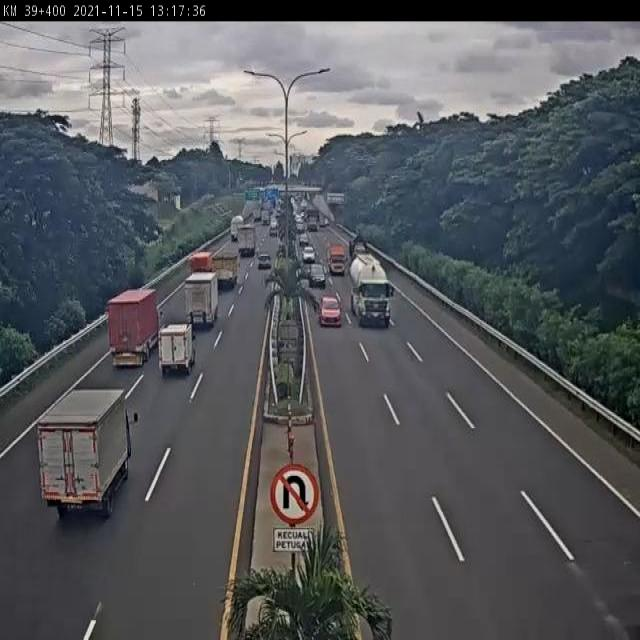Car: (320, 293, 341, 331), (308, 266, 327, 290), (254, 250, 274, 272), (302, 244, 316, 262), (298, 232, 309, 248)
Truck: (27, 383, 144, 524), (101, 282, 166, 366), (347, 253, 393, 327), (152, 323, 200, 382), (177, 276, 221, 333), (214, 251, 241, 291), (326, 241, 351, 275), (234, 225, 258, 259), (350, 232, 375, 261), (187, 247, 210, 275), (228, 214, 245, 241), (305, 210, 320, 234)
